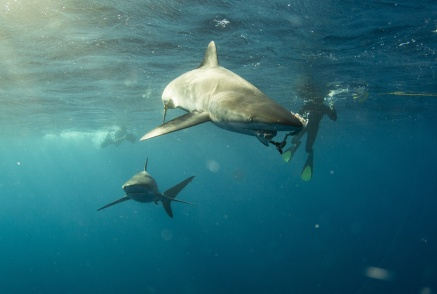Sedoso: (134, 39, 306, 158)
